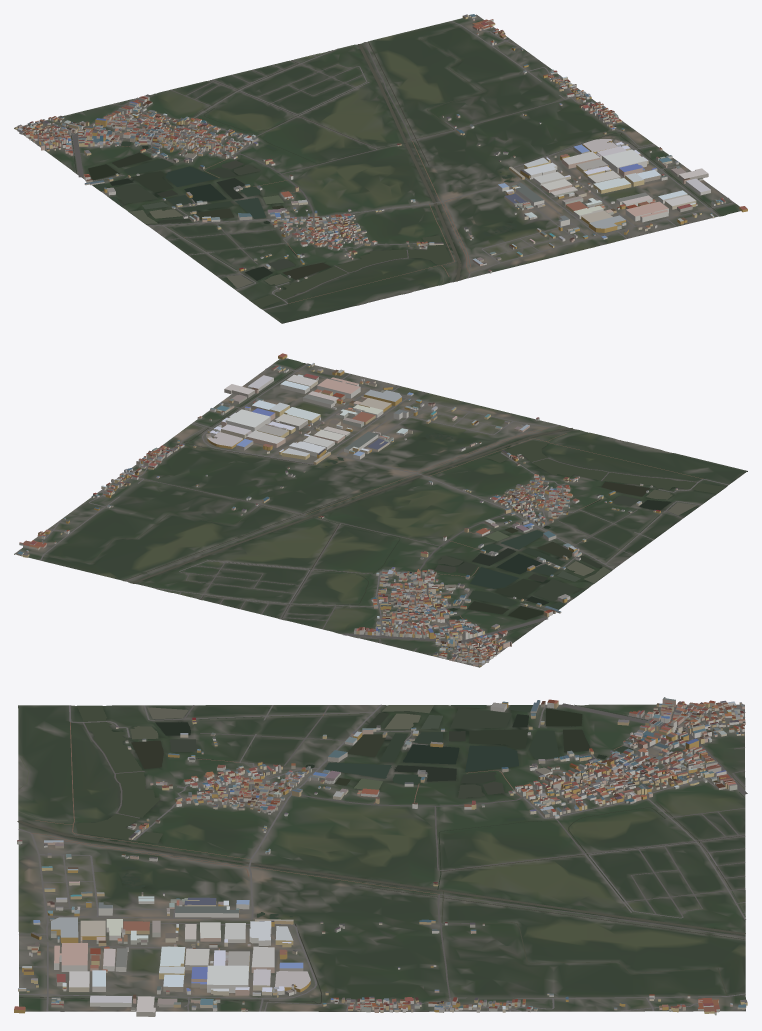
3 views of the same model, one above another, from view 1: azimuth 30°, elevation 25°; view 2: azimuth 150°, elevation 25°; view 3: azimuth 270°, elevation 25° (orthographic). The views are drawn at different scales.
Parts seen in each view (by area): view 1: ground, buildings, water, roads; view 2: ground, buildings, water, roads; view 3: ground, buildings, water, roads.
Part boxes in pixels (left/top/right/bottom): ground: left=14, top=14, right=740, bottom=323; buildings: left=14, top=14, right=747, bottom=289; water: left=71, top=26, right=721, bottom=307; roads: left=16, top=21, right=734, bottom=310; ground: left=14, top=358, right=747, bottom=667; buildings: left=17, top=353, right=677, bottom=666; water: left=45, top=363, right=725, bottom=642; roads: left=40, top=363, right=728, bottom=665; ground: left=18, top=704, right=745, bottom=1011; buildings: left=14, top=697, right=747, bottom=1016; water: left=17, top=704, right=745, bottom=1003; roads: left=18, top=703, right=747, bottom=1011.
Size of the model in its own units: 1441 by 24.88 by 1416.
